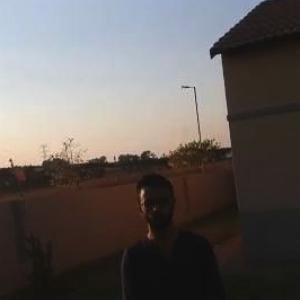follow: (115, 168, 233, 299)
